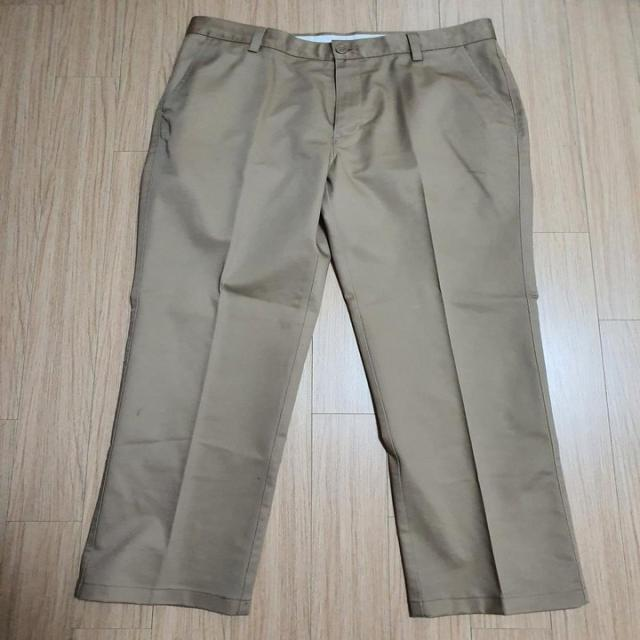long-pants: (71, 14, 589, 620)
